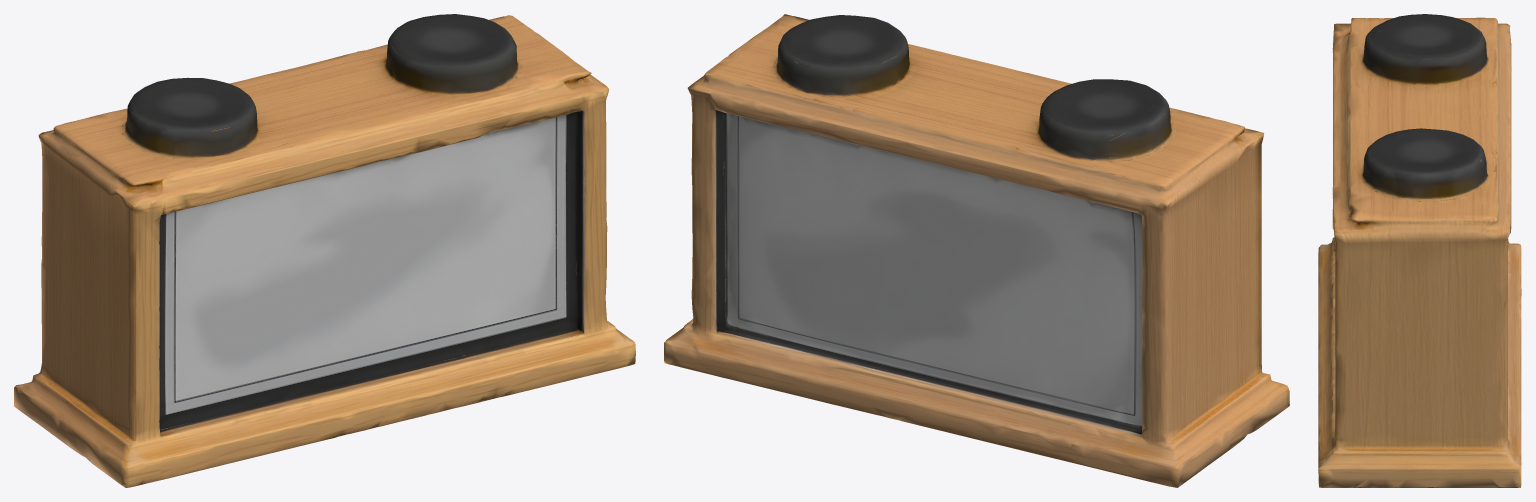
File: Meshy_AI_Wooden_Box_with_Lids_0129074733_texture.fbx
The picture shows the model from 3 angles, left to right: view 1: azimuth 30°, elevation 25°; view 2: azimuth 150°, elevation 25°; view 3: azimuth 270°, elevation 25°; orthographic projection. The views are drawn at different scales.
Parts seen in each view (by area): view 1: Mesh_0; view 2: Mesh_0; view 3: Mesh_0.
Part boxes in pixels (box(x1,y1,x2,y2)): Mesh_0: box(14, 14, 635, 487); Mesh_0: box(664, 14, 1289, 487); Mesh_0: box(1318, 14, 1521, 487).
Size of the model in its own units: 192 by 114 by 73.35.
1 material, 1 textured.
